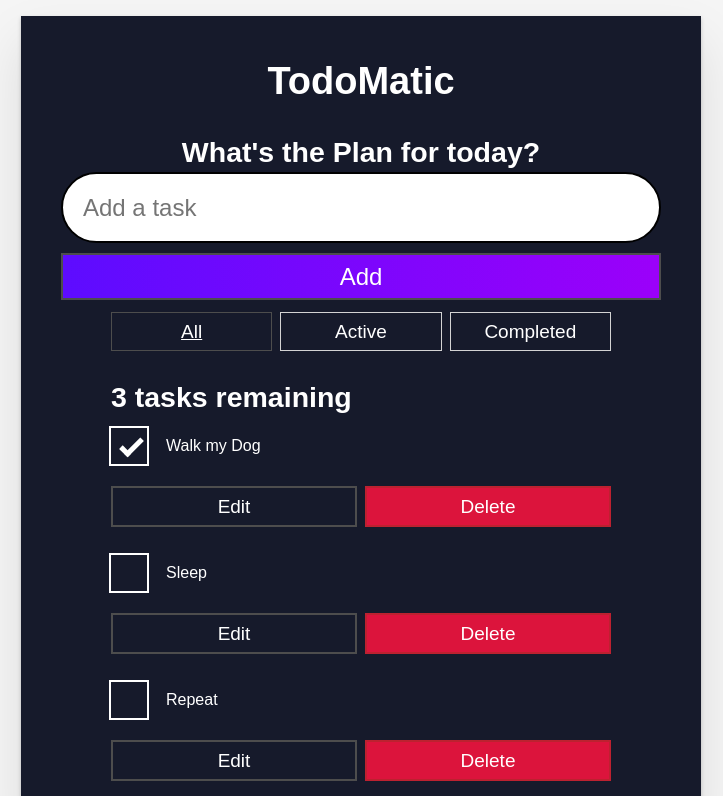
Test: Testing filter buttons functionality › Should update heading when completed button is pressed
Step 1. Click the button with test id "Completedfilter" → (530, 331), box [450,312,611,350]
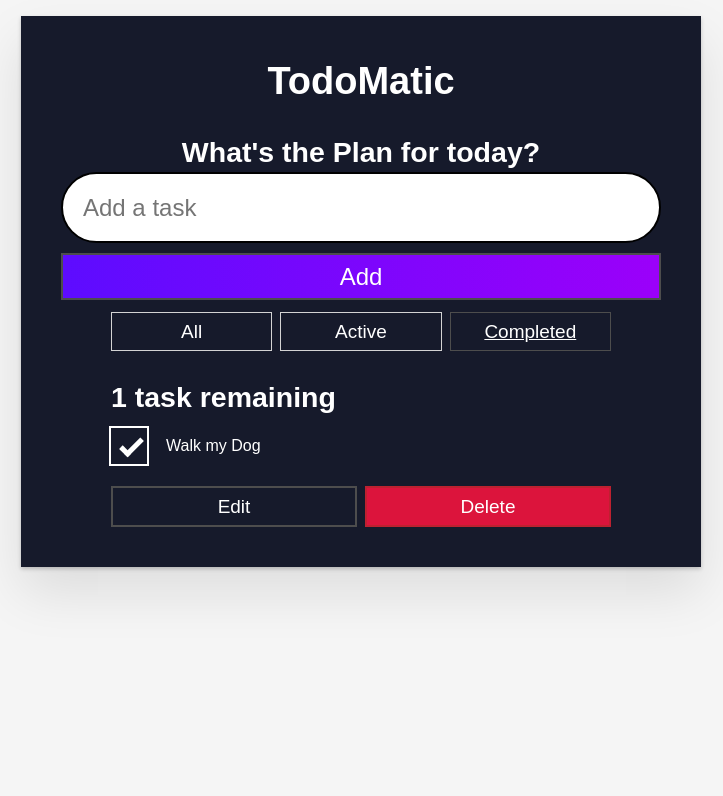
Expected: the heading with test id "task-list-heading" reads "1 task remaining", [111,380,336,412]
